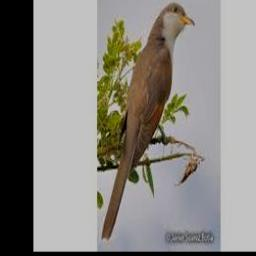Cuckoo: (101, 2, 194, 240)
